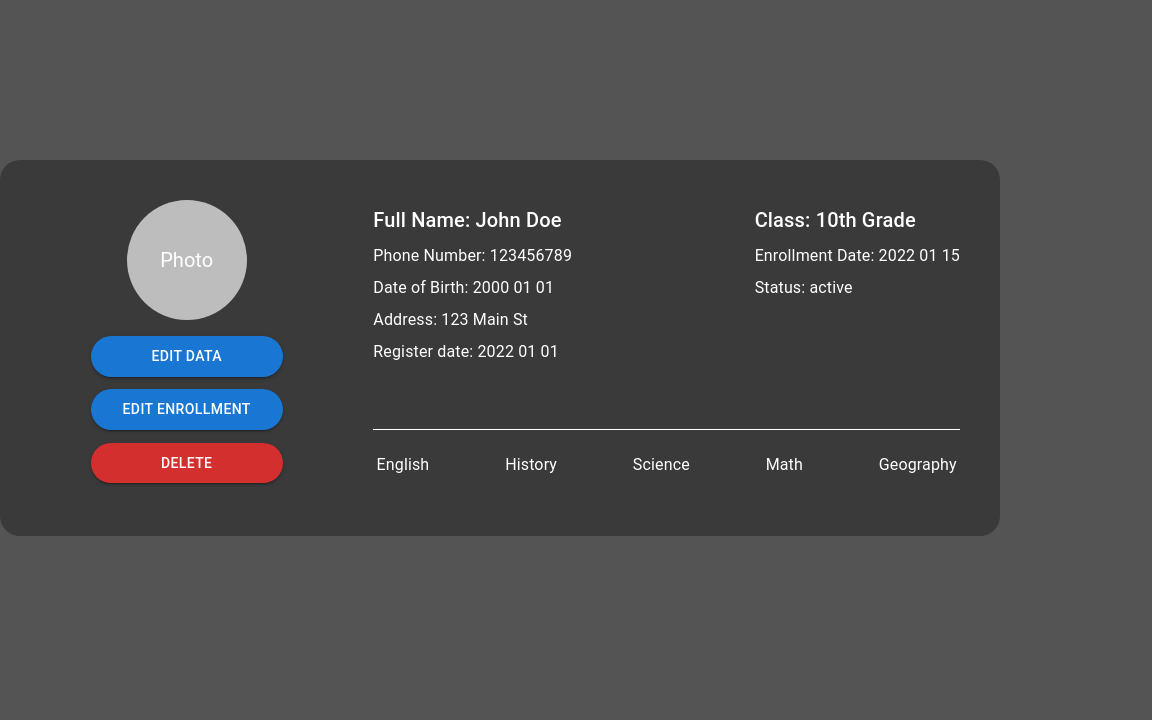
Test: Student Details tests › renders subject not found state
Click the text "Science" at x=661, y=465, box [630,450,693,480]
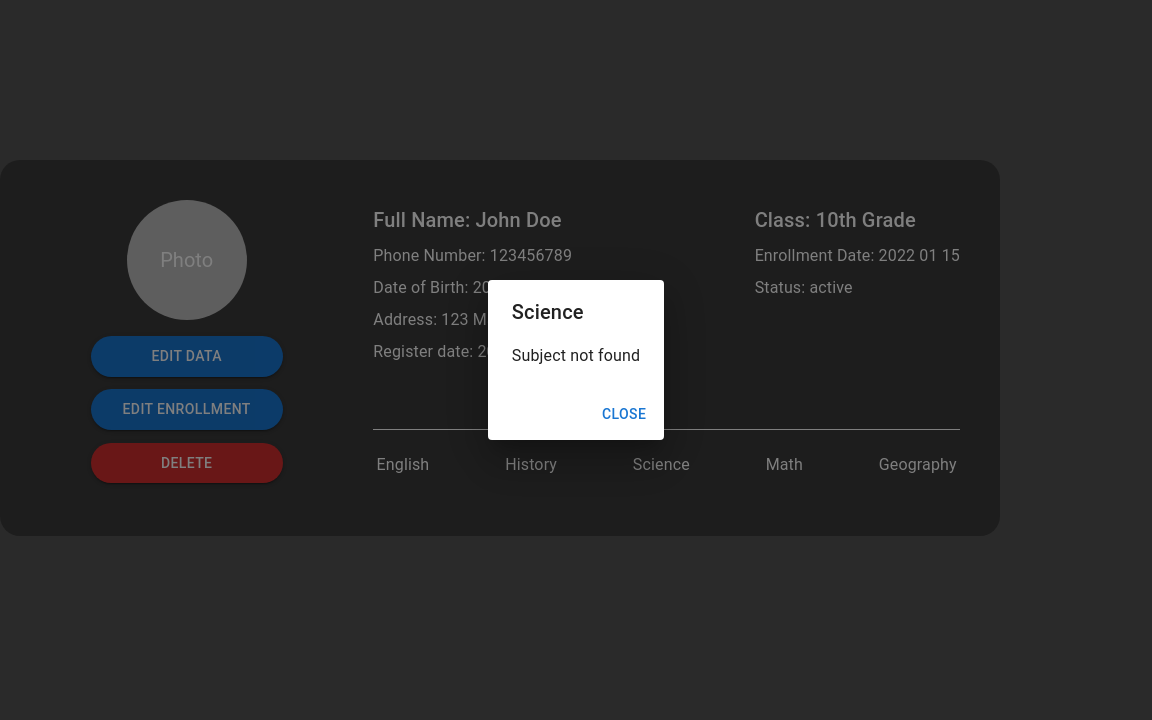
Now the text "Subject not found" is shown, box [512,344,640,368]
